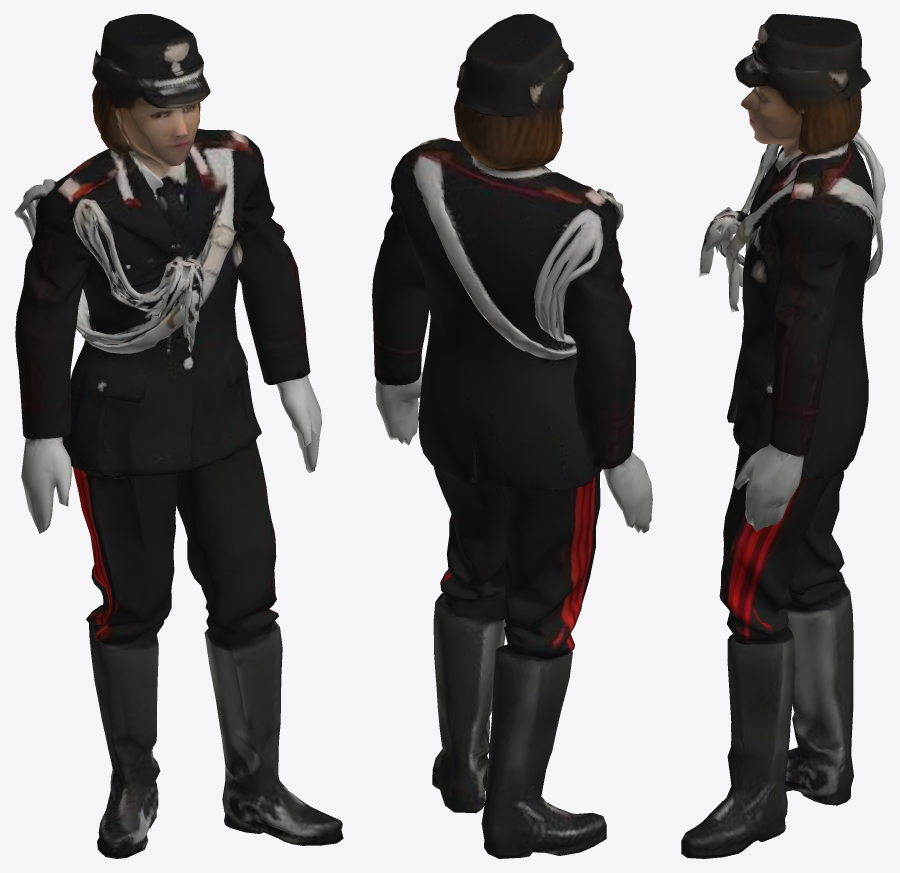
File: polwan_rusia_idle.glb
The picture shows the model from 3 angles, left to right: view 1: azimuth 30°, elevation 25°; view 2: azimuth 150°, elevation 25°; view 3: azimuth 270°, elevation 25°; orthographic projection. The views are drawn at different scales.
Parts seen in each view (by area): view 1: tripo_node_29eb73c3-ff94-4294-a8c2-28b780a9f8ef; view 2: tripo_node_29eb73c3-ff94-4294-a8c2-28b780a9f8ef; view 3: tripo_node_29eb73c3-ff94-4294-a8c2-28b780a9f8ef.
Part boxes in pixels (x1=…): tripo_node_29eb73c3-ff94-4294-a8c2-28b780a9f8ef: x1=14, y1=14, x2=343, y2=858; tripo_node_29eb73c3-ff94-4294-a8c2-28b780a9f8ef: x1=372, y1=14, x2=652, y2=858; tripo_node_29eb73c3-ff94-4294-a8c2-28b780a9f8ef: x1=681, y1=14, x2=885, y2=858.
Size of the model in its own units: 36.09 by 100 by 23.84.
Materials: 1 (1 with a texture image).
